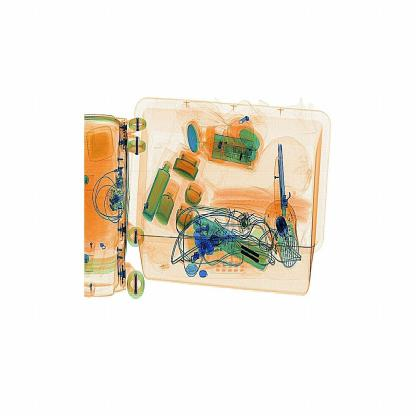pliers: (272, 136, 291, 216)
